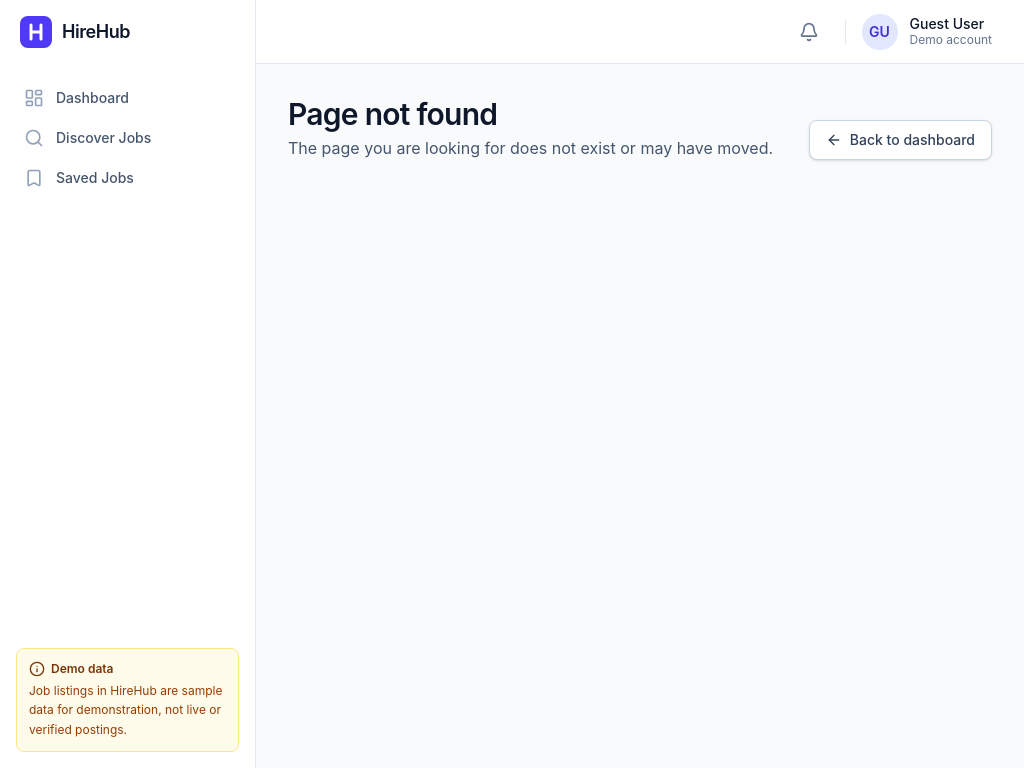
Test: app routing › renders the not-found page for unknown routes with a way back
Expected: the heading "Page not found" is shown, 288,96 -> 497,132
Step 1. Click the link "Back to dashboard" → [900, 140], box 809,120 -> 992,160
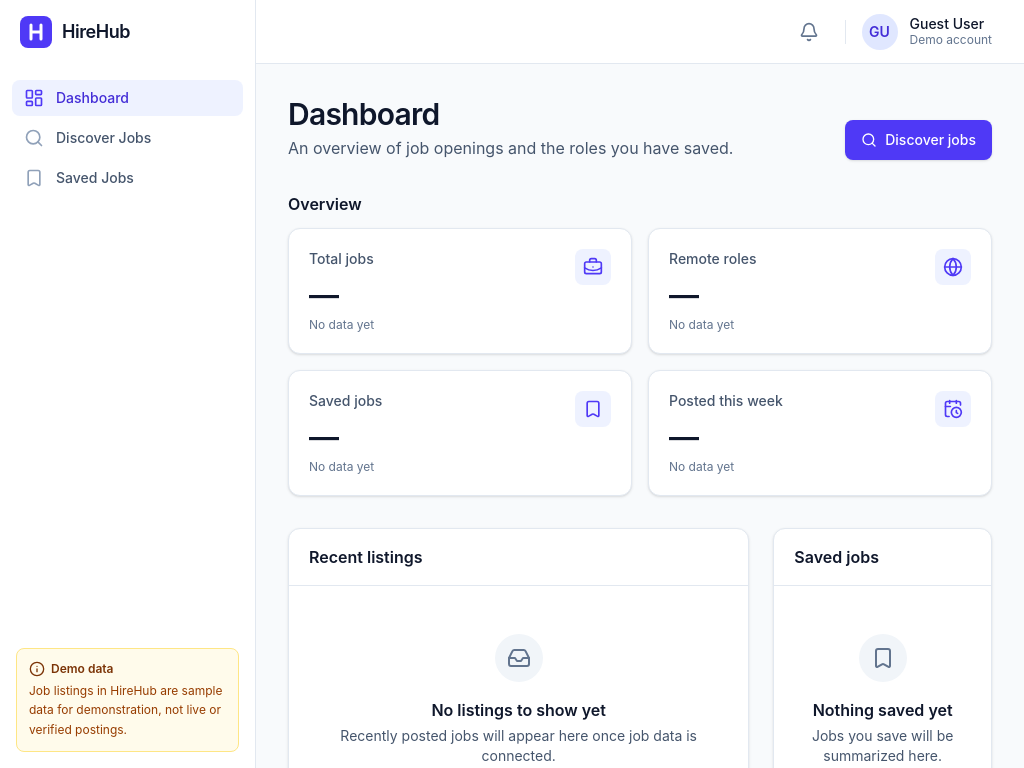
Expected: the heading "Dashboard" is shown, 288,96 -> 440,132
